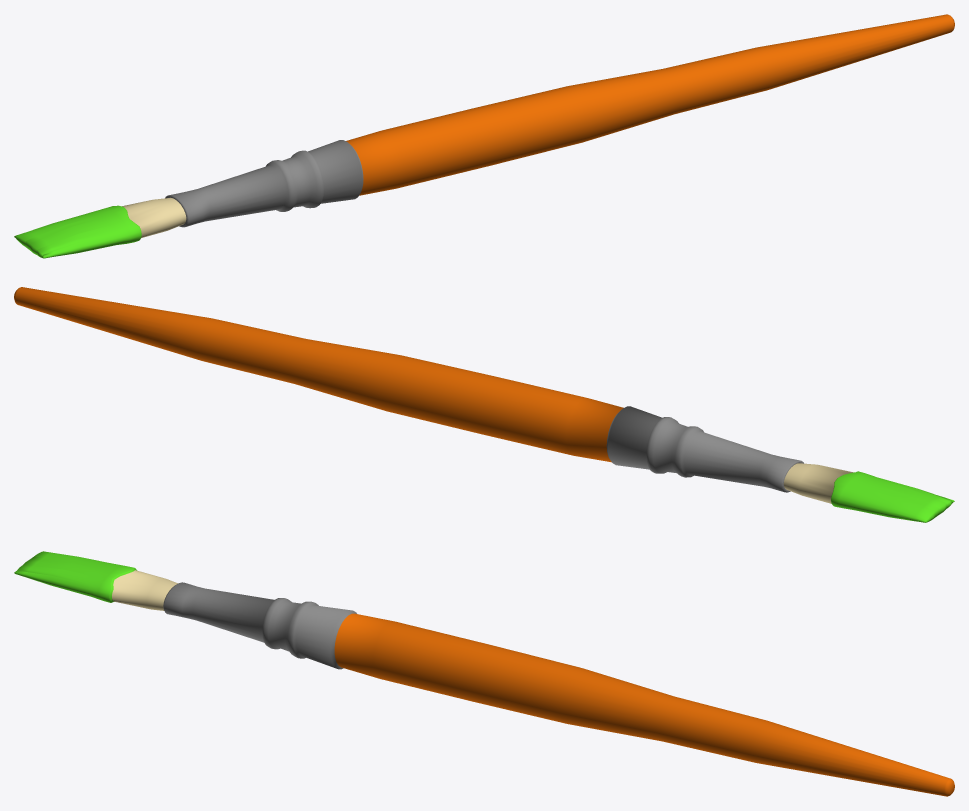
The model's file is mainBrush2.fbx.
The picture shows the model from 3 angles, top to bottom: view 1: azimuth 30°, elevation 25°; view 2: azimuth 150°, elevation 25°; view 3: azimuth 330°, elevation 25°; orthographic projection.
Parts seen in each view (by area): view 1: Circle.027, Circle.011; view 2: Circle.027, Circle.011; view 3: Circle.027, Circle.011.
Part boxes in pixels (x1=…): Circle.027: x1=165, y1=14, x2=954, y2=227; Circle.011: x1=14, y1=197, x2=186, y2=258; Circle.027: x1=14, y1=287, x2=803, y2=492; Circle.011: x1=783, y1=463, x2=954, y2=522; Circle.027: x1=163, y1=582, x2=954, y2=796; Circle.011: x1=14, y1=551, x2=177, y2=610.
Size of the model in its own units: 4.1 by 0.2374 by 0.2546.
